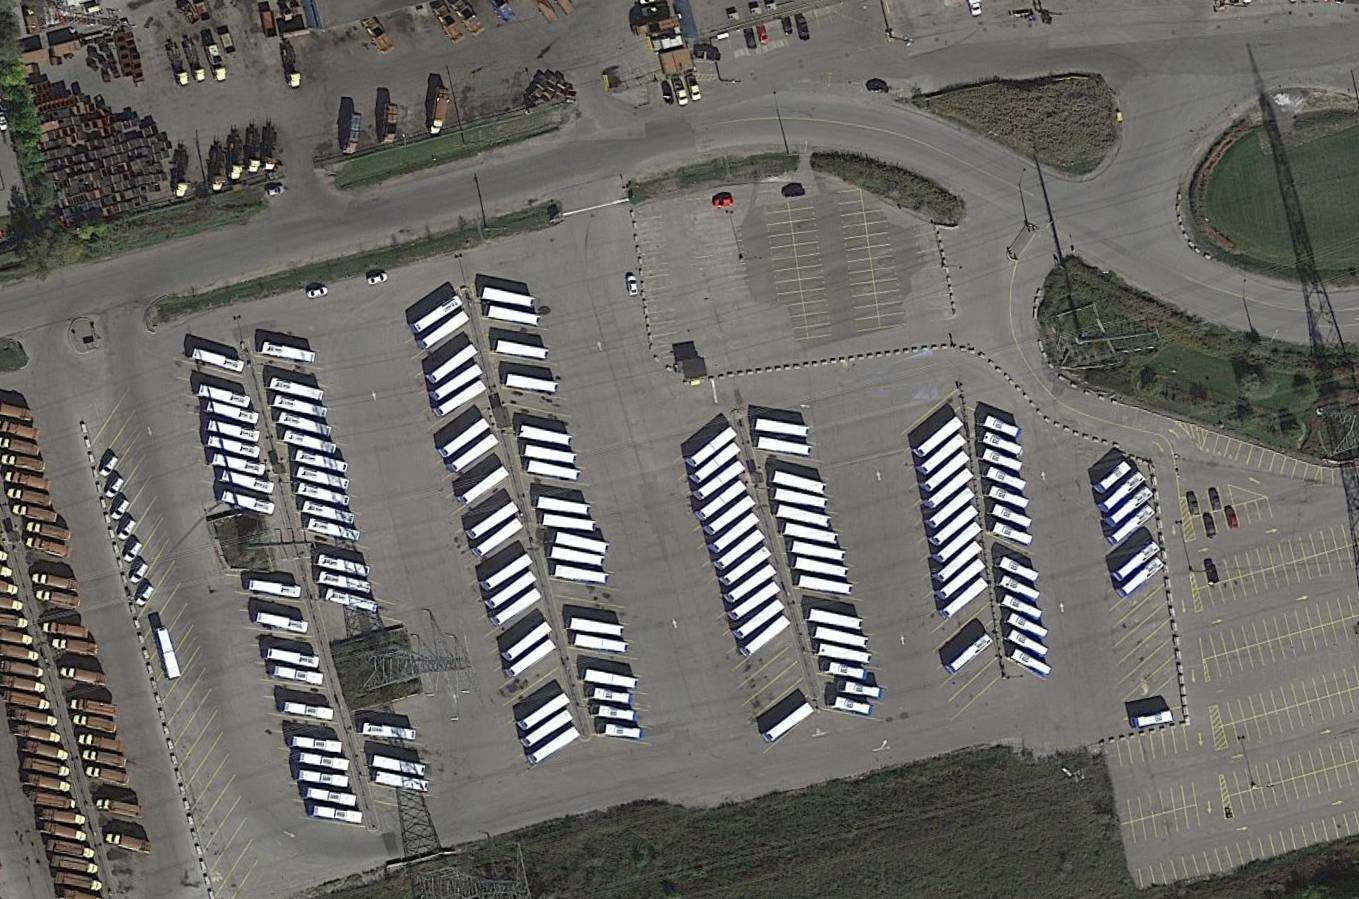large vehicle: (702, 494, 758, 538), (693, 479, 749, 523), (718, 544, 774, 588), (912, 415, 965, 461), (711, 528, 766, 572), (707, 512, 762, 556), (761, 702, 816, 746), (456, 464, 512, 507), (479, 551, 535, 594), (691, 460, 747, 503), (921, 448, 973, 494), (689, 441, 742, 486), (740, 614, 793, 659), (438, 417, 492, 461), (425, 343, 479, 387), (723, 562, 777, 606), (471, 517, 526, 560), (446, 433, 501, 476), (417, 310, 472, 353), (464, 500, 520, 542), (432, 379, 488, 421), (917, 433, 969, 478), (928, 504, 980, 549), (484, 569, 538, 612), (489, 587, 544, 629), (727, 581, 782, 623), (429, 362, 485, 403), (932, 521, 983, 566), (1105, 504, 1156, 549), (924, 467, 976, 511), (925, 487, 977, 531), (501, 621, 554, 664), (733, 598, 786, 641), (1112, 539, 1162, 584), (689, 425, 740, 469), (411, 294, 464, 336), (946, 631, 995, 676), (1097, 471, 1147, 515), (936, 539, 984, 584), (1106, 486, 1155, 530), (523, 709, 575, 750), (519, 692, 572, 732), (942, 577, 990, 621), (939, 558, 988, 601), (1120, 556, 1167, 599), (530, 726, 582, 764), (507, 639, 557, 678), (1008, 644, 1054, 682), (275, 409, 333, 439), (222, 467, 278, 496), (295, 464, 351, 493), (299, 480, 353, 510), (325, 585, 379, 615), (770, 469, 829, 496), (478, 285, 537, 312), (815, 641, 874, 668), (787, 538, 848, 564), (302, 498, 358, 526), (154, 625, 182, 681), (308, 515, 362, 544), (221, 488, 275, 517), (1093, 459, 1134, 497), (520, 442, 579, 468), (581, 668, 640, 694), (523, 458, 584, 483), (794, 573, 855, 598), (996, 572, 1042, 605), (518, 423, 574, 450), (207, 432, 263, 459), (284, 428, 338, 456), (484, 303, 542, 329), (792, 555, 850, 581), (812, 625, 870, 651), (549, 563, 611, 587), (782, 522, 839, 548), (552, 531, 611, 556), (296, 447, 350, 474), (317, 552, 373, 578), (275, 393, 327, 421), (272, 376, 324, 404), (978, 430, 1026, 460), (1005, 610, 1050, 642), (199, 383, 252, 410), (193, 347, 246, 374), (982, 463, 1028, 494), (774, 504, 831, 529), (493, 339, 550, 364), (1007, 627, 1050, 660), (770, 487, 829, 511), (805, 607, 864, 631), (214, 450, 266, 477), (267, 646, 321, 672), (547, 545, 605, 569), (984, 484, 1032, 513), (987, 502, 1033, 532), (208, 418, 261, 444), (375, 769, 430, 794), (573, 632, 630, 656), (1000, 592, 1044, 623), (533, 495, 592, 518), (538, 512, 597, 535), (208, 399, 260, 425), (319, 570, 373, 595), (755, 435, 813, 458), (257, 610, 310, 635), (249, 576, 304, 600), (303, 784, 358, 808), (568, 616, 625, 639), (373, 754, 427, 778), (262, 341, 318, 364), (979, 447, 1025, 475), (1000, 554, 1041, 585), (755, 417, 812, 439), (976, 414, 1022, 441), (503, 373, 559, 395), (820, 658, 870, 682), (273, 664, 325, 687), (310, 804, 364, 826), (828, 694, 875, 719), (363, 721, 418, 742), (992, 520, 1033, 548), (297, 768, 350, 789), (298, 751, 351, 772), (838, 679, 884, 702), (284, 701, 334, 722), (585, 687, 636, 707), (292, 734, 343, 754), (589, 704, 639, 723), (599, 722, 646, 741), (1131, 710, 1174, 730)
small vehicle: (43, 835, 97, 863), (94, 793, 147, 820), (58, 662, 111, 688), (19, 738, 71, 764), (23, 769, 73, 796), (50, 633, 101, 659), (51, 869, 104, 894), (71, 709, 121, 735), (10, 500, 62, 525), (3, 468, 53, 494), (12, 720, 64, 745), (40, 818, 88, 844), (21, 755, 73, 779), (5, 483, 54, 508), (29, 788, 78, 813), (104, 829, 152, 854), (3, 688, 53, 712), (26, 534, 72, 560), (31, 570, 83, 593), (25, 519, 74, 543), (70, 695, 119, 719), (76, 731, 127, 754), (50, 853, 100, 876), (84, 763, 134, 786), (10, 707, 59, 730), (79, 747, 130, 769), (33, 586, 81, 609), (2, 452, 48, 476), (41, 618, 91, 639), (40, 807, 87, 828), (1, 674, 48, 695), (1, 436, 43, 457), (114, 513, 142, 544), (2, 659, 45, 679), (108, 494, 135, 522), (102, 473, 128, 501), (96, 451, 122, 479), (132, 581, 157, 609), (121, 537, 144, 565), (128, 558, 150, 586), (364, 270, 389, 287), (304, 285, 330, 301), (266, 183, 286, 199)
